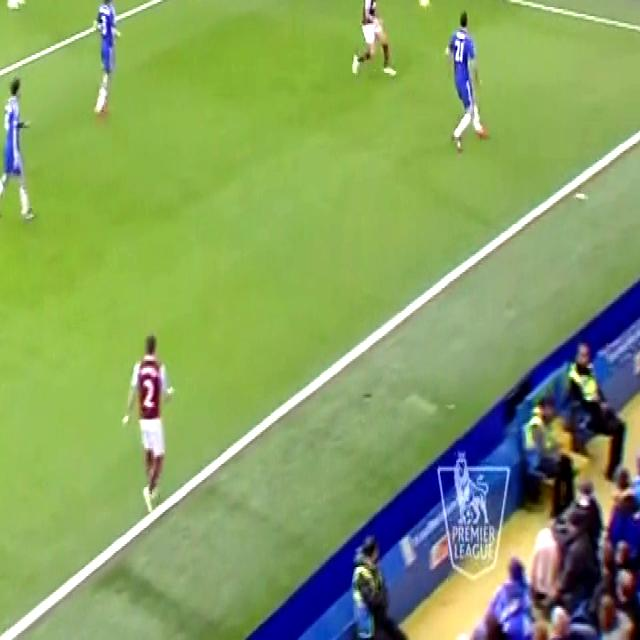ball: (413, 0, 429, 16)
soccer-player: (120, 318, 183, 528), (436, 0, 493, 158), (0, 62, 38, 235), (85, 0, 124, 128), (341, 0, 398, 87), (0, 0, 31, 18)
